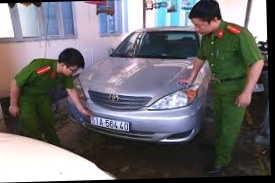Bien-so: (98, 116, 137, 138)
